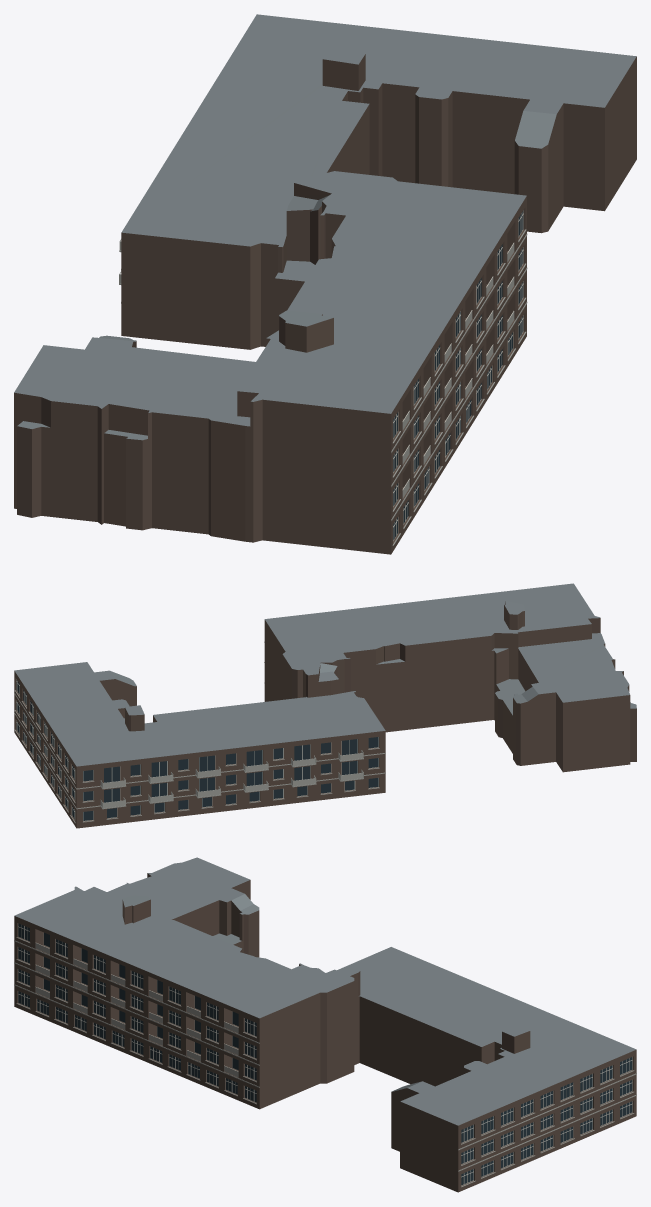
The model's file is recipe-large-van-beuningenstraat-48-093853.glb.
3 views of the same model, one above another, from view 1: azimuth 30°, elevation 25°; view 2: azimuth 150°, elevation 25°; view 3: azimuth 270°, elevation 25° (orthographic). The views are drawn at different scales.
Visible parts, largest first — view 1: van-beuningenstraat-48-093853; view 2: van-beuningenstraat-48-093853; view 3: van-beuningenstraat-48-093853.
Part boxes in pixels (<box>): van-beuningenstraat-48-093853: <box>14,14,636,554</box>; van-beuningenstraat-48-093853: <box>14,583,636,828</box>; van-beuningenstraat-48-093853: <box>14,857,636,1192</box>.
Size of the model in its own units: 97.8 by 18.87 by 98.44.
